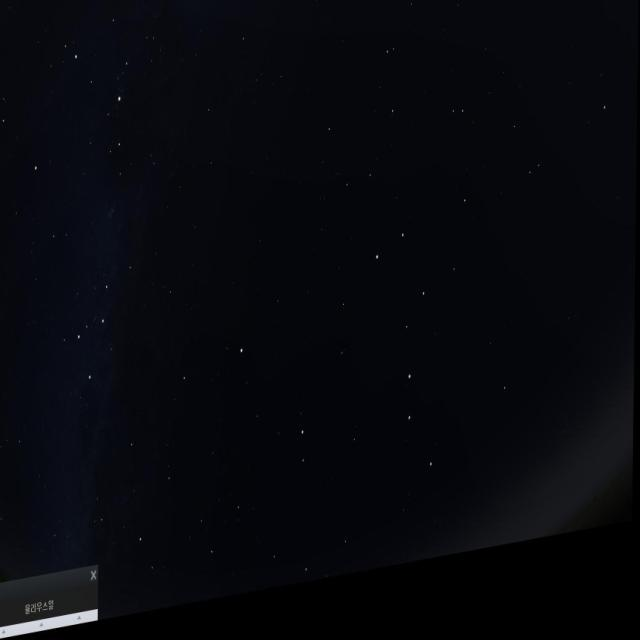cassiopeia: (66, 242, 142, 397)
ursa_major: (366, 231, 443, 502)
